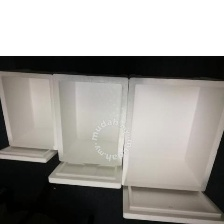foam_box: (118, 73, 223, 224), (45, 70, 132, 192), (0, 67, 62, 166)
